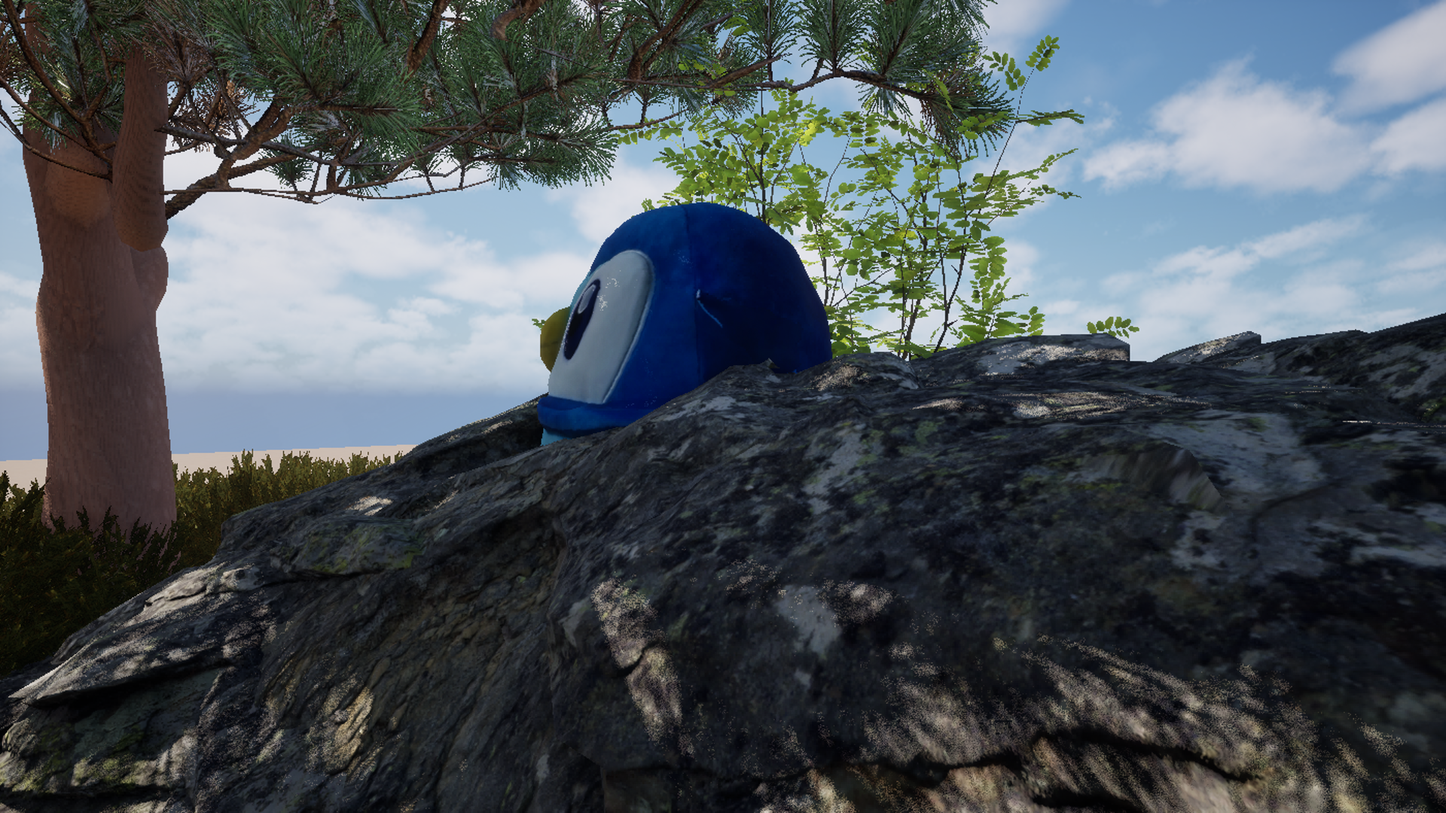Piplup: (324, 0, 1103, 813)
